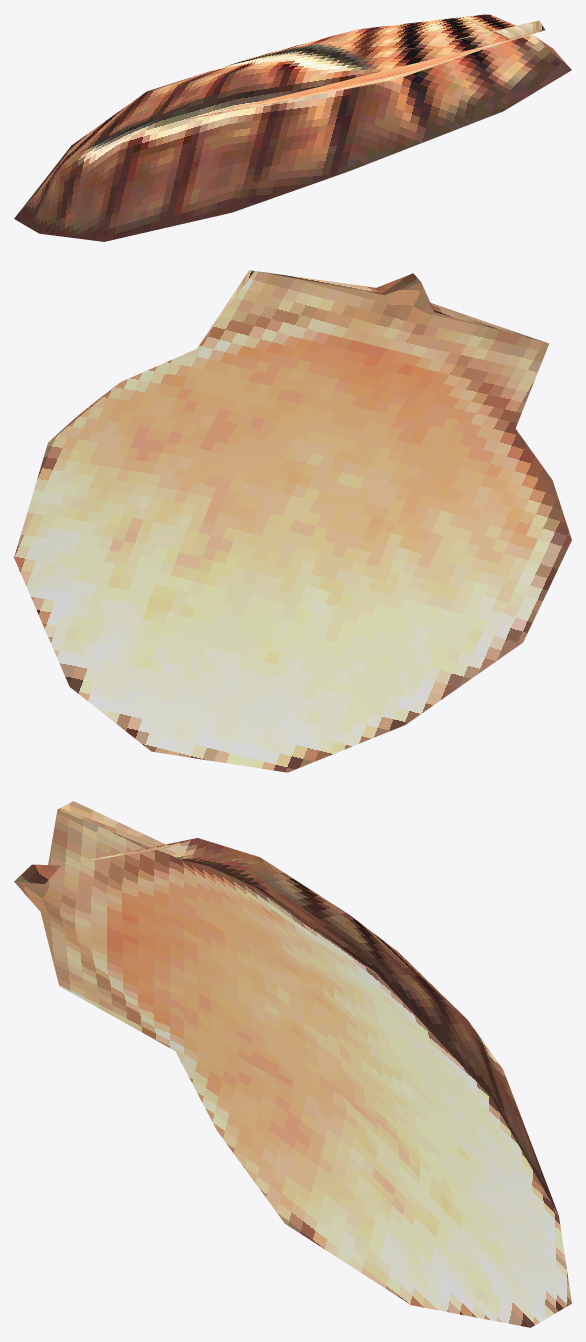
The model's file is ps2_save-icons_surfsup.glb.
3 renders of one model, top to bottom at view 1: azimuth 30°, elevation 25°; view 2: azimuth 150°, elevation 25°; view 3: azimuth 270°, elevation 25°, orthographic. The views are drawn at different scales.
Visible parts, largest first — view 1: surfsup.ico; view 2: surfsup.ico; view 3: surfsup.ico.
Boxes of the visible parts, x1,y1,x2,y2 form: surfsup.ico: (14,14,571,241); surfsup.ico: (14,270,571,772); surfsup.ico: (14,801,571,1327).
Size of the model in its own units: 4.02 by 2.48 by 3.04.
1 material, 1 textured.
